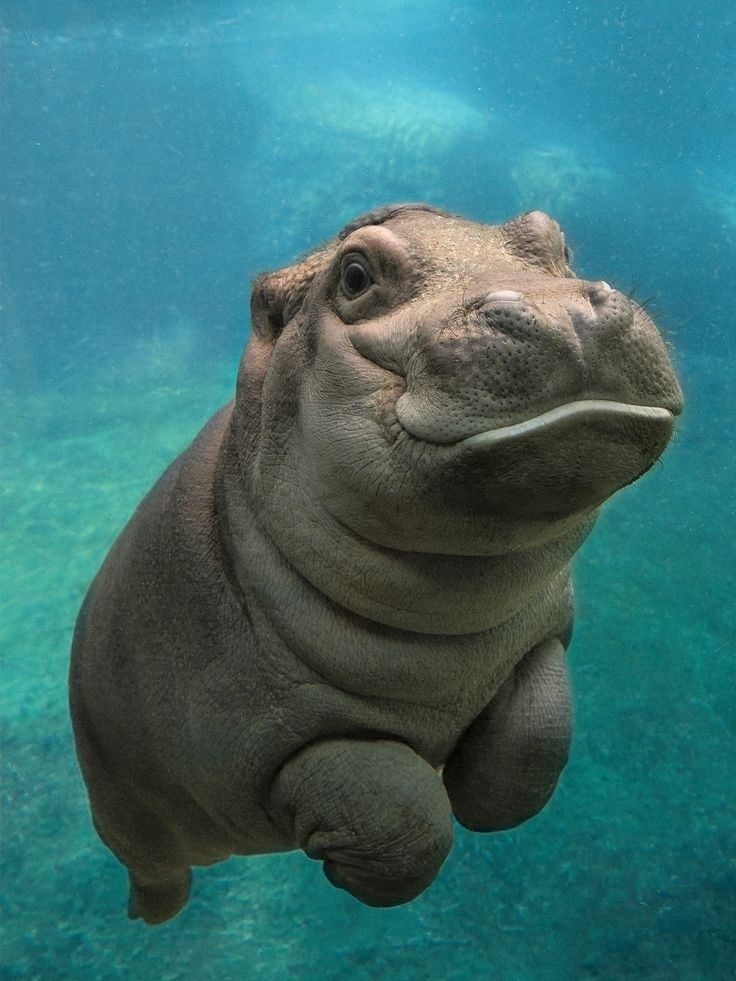hipopotamo: (45, 170, 695, 942)
